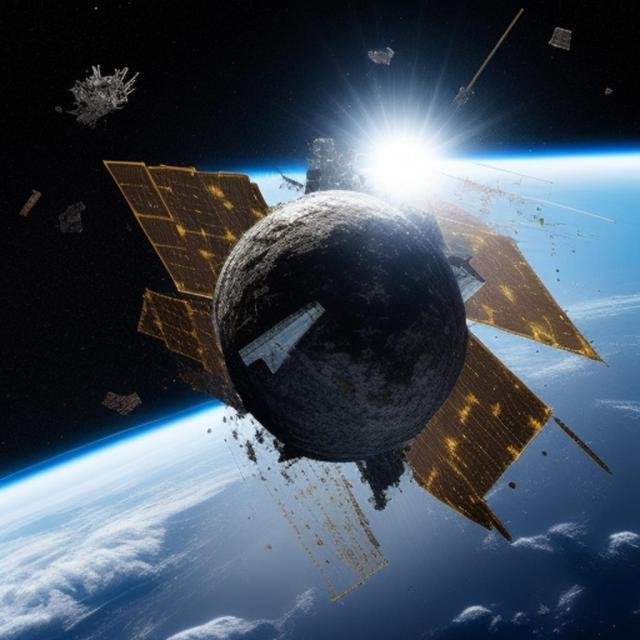debris: (103, 130, 613, 526)
